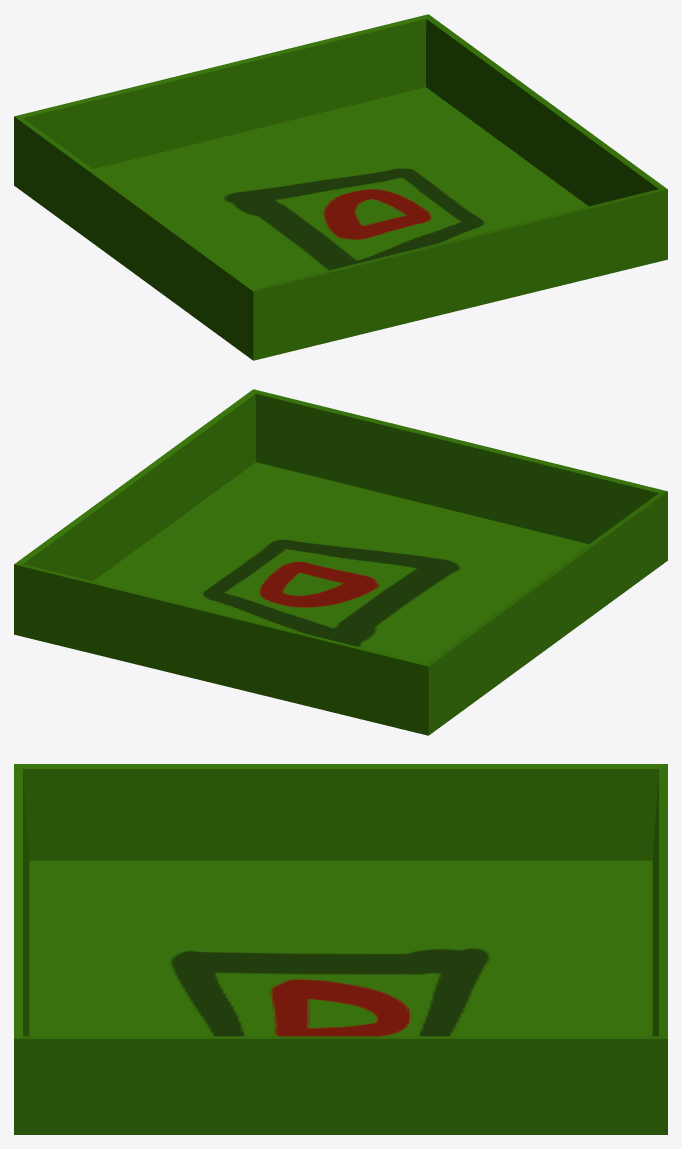
The model's file is dartman_arena.glb.
The picture shows the model from 3 angles, top to bottom: view 1: azimuth 30°, elevation 25°; view 2: azimuth 150°, elevation 25°; view 3: azimuth 270°, elevation 25°; orthographic projection. The views are drawn at different scales.
Visible parts, largest first — view 1: Cube; view 2: Cube; view 3: Cube.
Part boxes in pixels (box(x1,y1,x2,y2)): Cube: box(14, 14, 667, 360); Cube: box(14, 389, 667, 735); Cube: box(14, 764, 667, 1134).
Size of the model in its own units: 200 by 32.36 by 200.
Materials: 1 (1 with a texture image).
